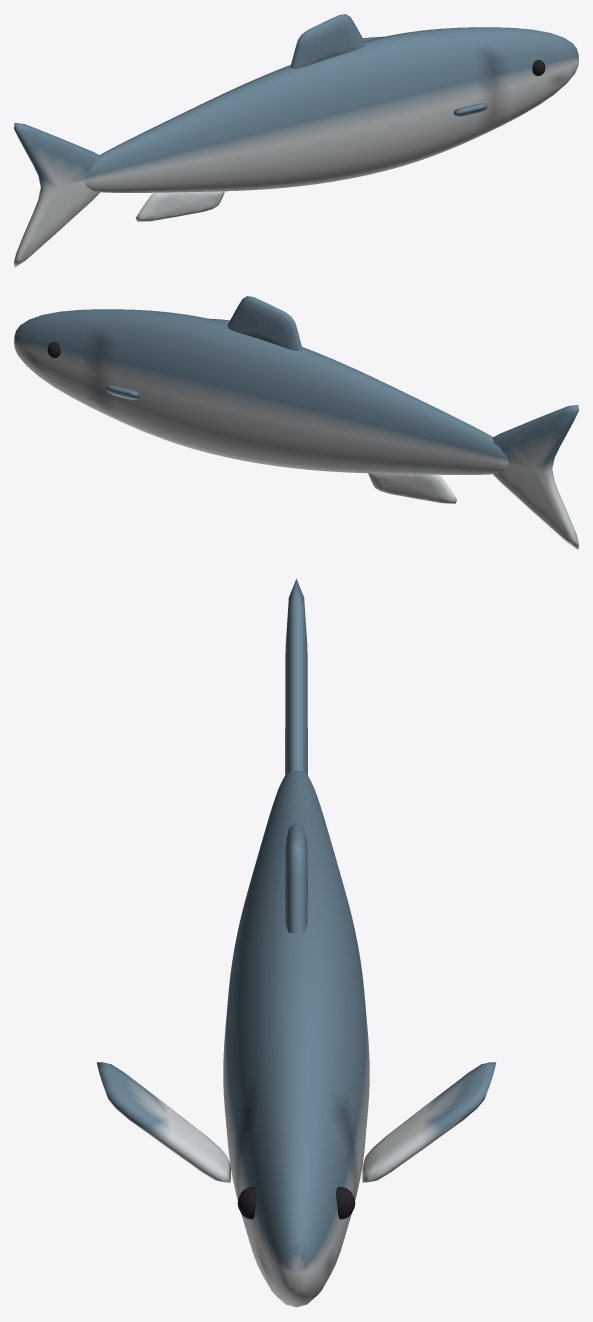
Rendered from herring.glb.
3 views of the same model, one above another, from view 1: azimuth 30°, elevation 25°; view 2: azimuth 150°, elevation 25°; view 3: azimuth 270°, elevation 25° (orthographic). The views are drawn at different scales.
Parts seen in each view (by area): view 1: herring; view 2: herring; view 3: herring.
Boxes of the visible parts, x1=… form: herring: x1=14, y1=14, x2=578, y2=267; herring: x1=14, y1=296, x2=578, y2=549; herring: x1=96, y1=578, x2=496, y2=1307.
Size of the model in its own units: 0.3169 by 0.0935 by 0.0974.
